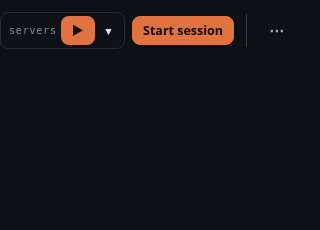
Test: ActionBar › splits a sessionless feature the same way it splits a session
Expected: the button "Start session" is shown, top-left (132, 16), bottom-right (234, 45)
Expected: the button "Open in editor" is not shown
Click the button named "More actions". click: (277,30)
box: top-left (259, 17), bottom-right (294, 44)
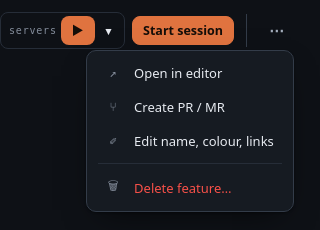
Expected: the menu item "⑂ Create PR / MR" is shown, top-left (92, 90), bottom-right (288, 124)
Expected: the menu item "↗ Open in editor" is shown, top-left (92, 56), bottom-right (288, 90)
Expected: the menu item "🗑 Delete feature…" is shown, top-left (92, 169), bottom-right (288, 206)
